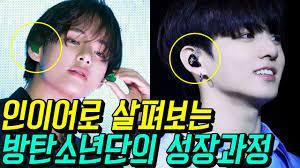earphone: (184, 51, 205, 67), (28, 42, 40, 54)
